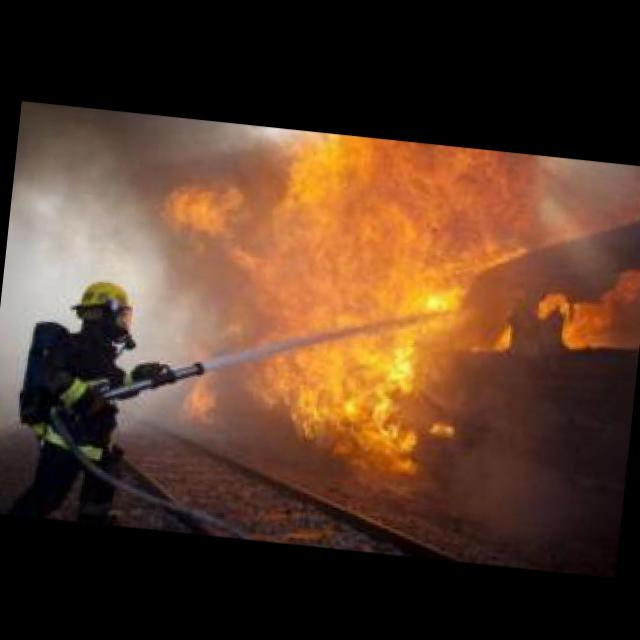fire: (144, 117, 569, 487)
